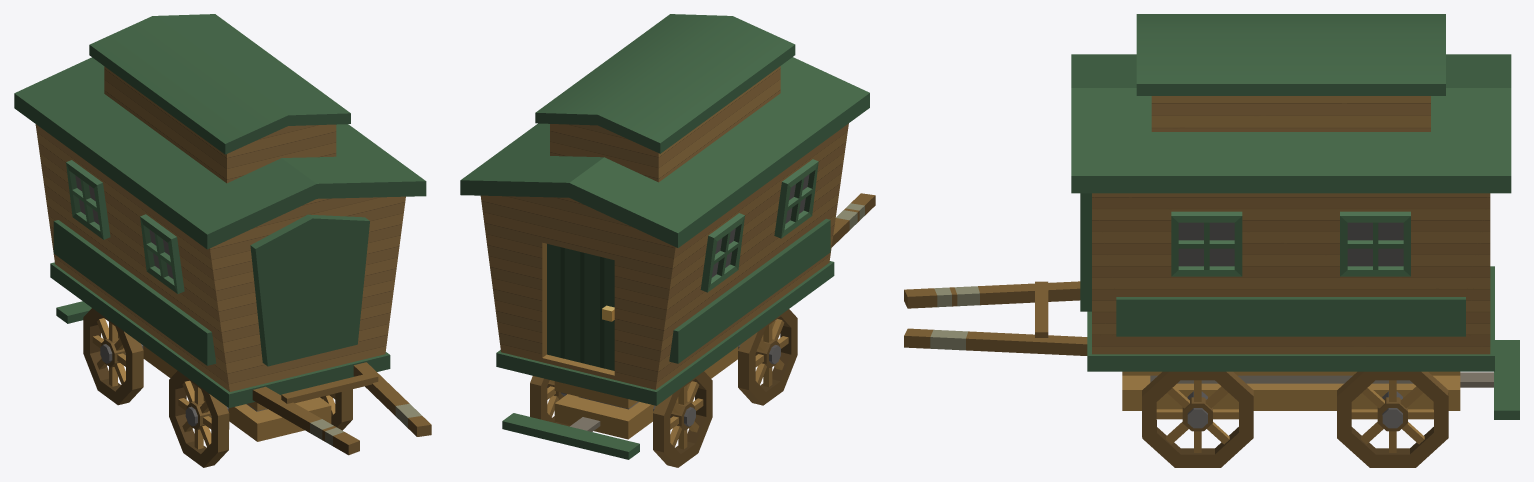
File: SF_Veh_HouseWagon_01.fbx
3 renders of one model, left to right at view 1: azimuth 30°, elevation 25°; view 2: azimuth 150°, elevation 25°; view 3: azimuth 270°, elevation 25°, orthographic. The views are drawn at different scales.
Visible parts, largest first — view 1: SF_Veh_HouseWagon_01, SF_Veh_HouseWheel_Front, SF_Veh_HouseWheel_Back; view 2: SF_Veh_HouseWagon_01, SF_Veh_HouseWheel_Back, SF_Veh_HouseWheel_Front; view 3: SF_Veh_HouseWagon_01, SF_Veh_HouseWheel_Back, SF_Veh_HouseWheel_Front.
Boxes of the visible parts, x1=… form: SF_Veh_HouseWagon_01: x1=14, y1=14, x2=431, y2=455; SF_Veh_HouseWheel_Front: x1=169, y1=370, x2=352, y2=467; SF_Veh_HouseWheel_Back: x1=83, y1=308, x2=143, y2=405; SF_Veh_HouseWagon_01: x1=460, y1=14, x2=875, y2=459; SF_Veh_HouseWheel_Back: x1=530, y1=371, x2=712, y2=467; SF_Veh_HouseWheel_Front: x1=738, y1=309, x2=797, y2=405; SF_Veh_HouseWagon_01: x1=904, y1=14, x2=1519, y2=419; SF_Veh_HouseWheel_Back: x1=1337, y1=371, x2=1448, y2=467; SF_Veh_HouseWheel_Front: x1=1142, y1=371, x2=1253, y2=467.
Bounding box in the file's own units: 4.05 × 6.17 × 8.67.
